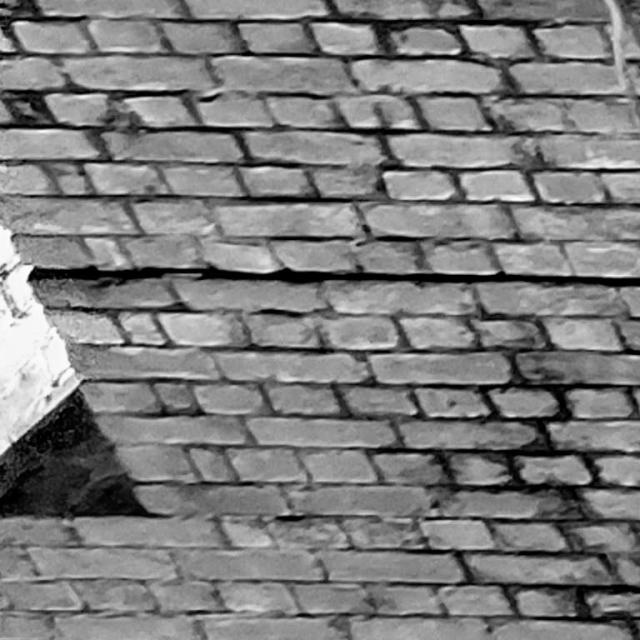crack: (29, 265, 640, 291)
